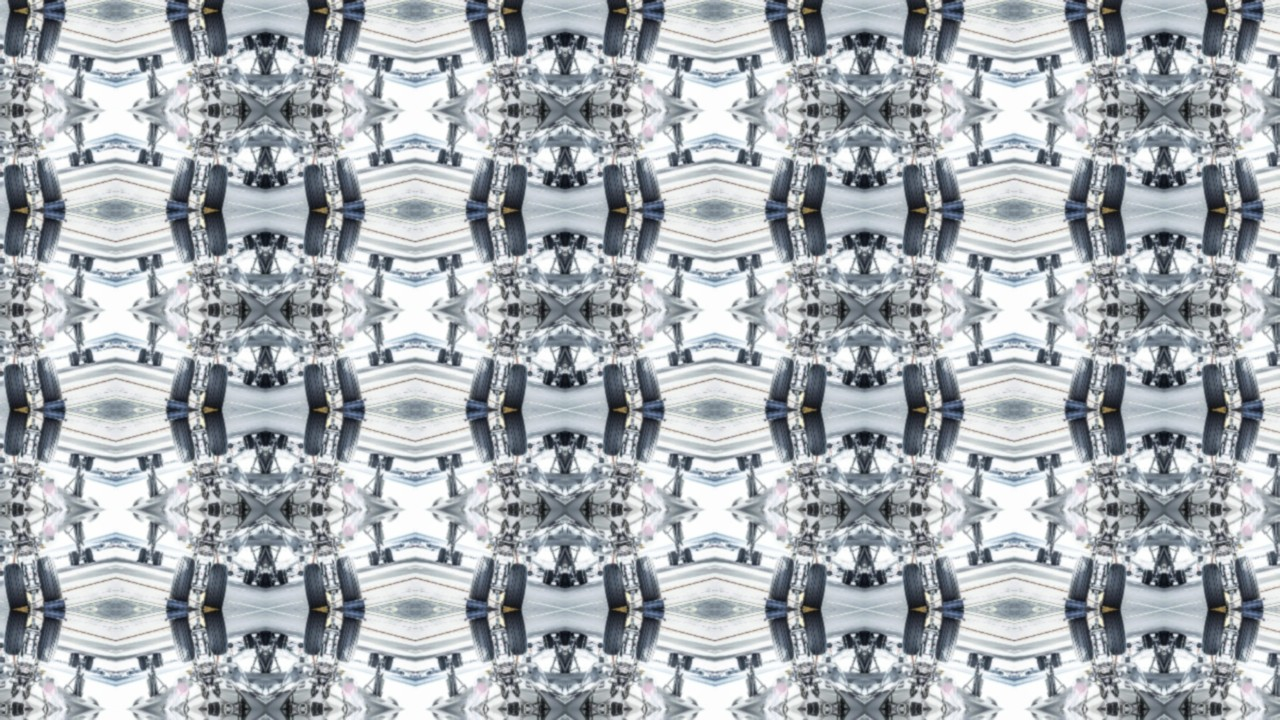chock: (43, 10, 65, 22), (165, 10, 187, 22), (343, 10, 365, 22), (465, 10, 487, 22), (643, 10, 665, 22), (765, 10, 787, 22), (943, 10, 965, 22), (1065, 10, 1087, 22), (1243, 10, 1265, 22), (43, 198, 65, 210), (165, 198, 187, 210), (343, 198, 365, 210), (465, 198, 487, 210), (643, 198, 665, 210), (765, 198, 787, 210), (943, 198, 965, 210), (1065, 198, 1087, 210), (1243, 198, 1265, 210), (43, 210, 65, 222), (165, 210, 187, 222), (343, 210, 365, 222), (465, 210, 487, 222), (643, 210, 665, 222), (765, 210, 787, 222), (943, 210, 965, 222), (1065, 210, 1087, 222), (1243, 210, 1265, 222), (43, 398, 65, 410), (165, 398, 187, 410), (343, 398, 365, 410), (465, 398, 487, 410), (643, 398, 665, 410), (765, 398, 787, 410), (943, 398, 965, 410), (1065, 398, 1087, 410), (1243, 398, 1265, 410), (43, 410, 65, 422), (165, 410, 187, 422), (343, 410, 365, 422), (465, 410, 487, 422), (643, 410, 665, 422), (765, 410, 787, 422), (943, 410, 965, 422), (1065, 410, 1087, 422), (1243, 410, 1265, 422), (43, 598, 65, 610), (165, 598, 187, 610), (343, 598, 365, 610), (465, 598, 487, 610), (643, 598, 665, 610), (765, 598, 787, 610), (943, 598, 965, 610), (1065, 598, 1087, 610), (1243, 598, 1265, 610), (43, 610, 65, 622), (165, 610, 187, 622), (343, 610, 365, 622), (465, 610, 487, 622), (643, 610, 665, 622), (765, 610, 787, 622), (943, 610, 965, 622), (1065, 610, 1087, 622), (1243, 610, 1265, 622), (43, 0, 65, 10), (165, 0, 187, 10), (343, 0, 365, 10), (465, 0, 487, 10), (643, 0, 665, 10), (765, 0, 787, 10), (943, 0, 965, 10), (1065, 0, 1087, 10), (1243, 0, 1265, 10), (87, 56, 95, 60), (135, 56, 143, 60), (387, 56, 395, 60), (435, 56, 443, 60), (687, 56, 695, 60), (735, 56, 743, 60), (987, 56, 995, 60), (1035, 56, 1043, 60), (87, 160, 95, 164), (135, 160, 143, 164), (387, 160, 395, 164), (435, 160, 443, 164), (687, 160, 695, 164), (735, 160, 743, 164), (987, 160, 995, 164), (1035, 160, 1043, 164), (87, 256, 95, 260), (135, 256, 143, 260), (387, 256, 395, 260), (435, 256, 443, 260), (687, 256, 695, 260), (735, 256, 743, 260), (987, 256, 995, 260), (1035, 256, 1043, 260), (87, 360, 95, 364), (135, 360, 143, 364), (387, 360, 395, 364), (435, 360, 443, 364), (687, 360, 695, 364), (735, 360, 743, 364), (987, 360, 995, 364), (1035, 360, 1043, 364), (87, 456, 95, 460), (135, 456, 143, 460), (387, 456, 395, 460), (435, 456, 443, 460), (687, 456, 695, 460), (735, 456, 743, 460), (987, 456, 995, 460), (1035, 456, 1043, 460), (87, 560, 95, 564), (135, 560, 143, 564), (387, 560, 395, 564), (435, 560, 443, 564), (687, 560, 695, 564), (735, 560, 743, 564), (987, 560, 995, 564), (1035, 560, 1043, 564), (87, 656, 95, 660), (135, 656, 143, 660), (387, 656, 395, 660), (435, 656, 443, 660), (687, 656, 695, 660), (735, 656, 743, 660), (987, 656, 995, 660), (1035, 656, 1043, 660), (259, 31, 265, 35), (265, 31, 271, 35), (559, 31, 565, 35), (565, 31, 571, 35), (859, 31, 865, 35), (865, 31, 871, 35), (1159, 31, 1165, 35), (1165, 31, 1171, 35), (259, 185, 265, 189), (265, 185, 271, 189), (559, 185, 565, 189), (565, 185, 571, 189), (859, 185, 865, 189), (865, 185, 871, 189), (1159, 185, 1165, 189), (1165, 185, 1171, 189), (259, 231, 265, 235), (265, 231, 271, 235), (559, 231, 565, 235), (565, 231, 571, 235), (859, 231, 865, 235), (865, 231, 871, 235), (1159, 231, 1165, 235), (1165, 231, 1171, 235), (259, 385, 265, 389), (265, 385, 271, 389), (559, 385, 565, 389), (565, 385, 571, 389), (859, 385, 865, 389), (865, 385, 871, 389), (1159, 385, 1165, 389), (1165, 385, 1171, 389), (259, 431, 265, 435), (265, 431, 271, 435), (559, 431, 565, 435), (565, 431, 571, 435), (859, 431, 865, 435), (865, 431, 871, 435), (1159, 431, 1165, 435), (1165, 431, 1171, 435), (259, 585, 265, 589), (265, 585, 271, 589), (559, 585, 565, 589), (565, 585, 571, 589), (859, 585, 865, 589), (865, 585, 871, 589), (1159, 585, 1165, 589), (1165, 585, 1171, 589), (259, 631, 265, 635), (265, 631, 271, 635), (559, 631, 565, 635), (565, 631, 571, 635), (859, 631, 865, 635), (865, 631, 871, 635), (1159, 631, 1165, 635), (1165, 631, 1171, 635)
wheel: (33, 10, 64, 65), (166, 10, 197, 65), (333, 10, 364, 65), (466, 10, 497, 65), (633, 10, 664, 65), (766, 10, 797, 65), (933, 10, 964, 65), (1066, 10, 1097, 65), (1233, 10, 1264, 65), (33, 155, 64, 210), (166, 155, 197, 210), (333, 155, 364, 210), (466, 155, 497, 210), (633, 155, 664, 210), (766, 155, 797, 210), (933, 155, 964, 210), (1066, 155, 1097, 210), (1233, 155, 1264, 210), (33, 210, 64, 265), (166, 210, 197, 265), (333, 210, 364, 265), (466, 210, 497, 265), (633, 210, 664, 265), (766, 210, 797, 265), (933, 210, 964, 265), (1066, 210, 1097, 265), (1233, 210, 1264, 265), (33, 355, 64, 410), (166, 355, 197, 410), (333, 355, 364, 410), (466, 355, 497, 410), (633, 355, 664, 410), (766, 355, 797, 410), (933, 355, 964, 410), (1066, 355, 1097, 410), (1233, 355, 1264, 410), (33, 410, 64, 465), (166, 410, 197, 465), (333, 410, 364, 465), (466, 410, 497, 465), (633, 410, 664, 465), (766, 410, 797, 465), (933, 410, 964, 465), (1066, 410, 1097, 465), (1233, 410, 1264, 465), (33, 555, 64, 610), (166, 555, 197, 610), (333, 555, 364, 610), (466, 555, 497, 610), (633, 555, 664, 610), (766, 555, 797, 610), (933, 555, 964, 610), (1066, 555, 1097, 610), (1233, 555, 1264, 610), (33, 610, 64, 665), (166, 610, 197, 665), (333, 610, 364, 665), (466, 610, 497, 665), (633, 610, 664, 665), (766, 610, 797, 665), (933, 610, 964, 665), (1066, 610, 1097, 665), (1233, 610, 1264, 665), (201, 10, 231, 58), (299, 10, 329, 58), (501, 10, 531, 58), (599, 10, 629, 58), (801, 10, 831, 58), (899, 10, 929, 58), (1101, 10, 1131, 58), (1199, 10, 1229, 58), (201, 162, 231, 210), (299, 162, 329, 210), (501, 162, 531, 210), (599, 162, 629, 210), (801, 162, 831, 210), (899, 162, 929, 210), (1101, 162, 1131, 210), (1199, 162, 1229, 210), (201, 210, 231, 258), (299, 210, 329, 258), (501, 210, 531, 258), (599, 210, 629, 258), (801, 210, 831, 258), (899, 210, 929, 258), (1101, 210, 1131, 258), (1199, 210, 1229, 258), (201, 362, 231, 410), (299, 362, 329, 410), (501, 362, 531, 410), (599, 362, 629, 410), (801, 362, 831, 410), (899, 362, 929, 410), (1101, 362, 1131, 410), (1199, 362, 1229, 410), (201, 410, 231, 458), (299, 410, 329, 458), (501, 410, 531, 458), (599, 410, 629, 458), (801, 410, 831, 458), (899, 410, 929, 458), (1101, 410, 1131, 458), (1199, 410, 1229, 458), (201, 562, 231, 610), (299, 562, 329, 610), (501, 562, 531, 610), (599, 562, 629, 610), (801, 562, 831, 610), (899, 562, 929, 610), (1101, 562, 1131, 610), (1199, 562, 1229, 610), (201, 610, 231, 658), (299, 610, 329, 658), (501, 610, 531, 658), (599, 610, 629, 658), (801, 610, 831, 658), (899, 610, 929, 658), (1101, 610, 1131, 658), (1199, 610, 1229, 658), (0, 10, 29, 58), (0, 162, 29, 210), (0, 210, 29, 258), (0, 362, 29, 410), (0, 410, 29, 458), (0, 562, 29, 610), (0, 610, 29, 658), (33, 0, 64, 10), (166, 0, 197, 10), (333, 0, 364, 10), (466, 0, 497, 10), (633, 0, 664, 10), (766, 0, 797, 10), (933, 0, 964, 10), (1066, 0, 1097, 10), (1233, 0, 1264, 10), (201, 0, 231, 10), (299, 0, 329, 10), (501, 0, 531, 10), (599, 0, 629, 10), (801, 0, 831, 10), (899, 0, 929, 10), (1101, 0, 1131, 10), (1199, 0, 1229, 10), (0, 0, 29, 10), (242, 35, 255, 51), (275, 35, 288, 51), (542, 35, 555, 51), (575, 35, 588, 51), (842, 35, 855, 51), (875, 35, 888, 51), (1142, 35, 1155, 51), (1175, 35, 1188, 51), (242, 169, 255, 185), (275, 169, 288, 185), (542, 169, 555, 185), (575, 169, 588, 185), (842, 169, 855, 185), (875, 169, 888, 185), (1142, 169, 1155, 185), (1175, 169, 1188, 185), (242, 235, 255, 251), (275, 235, 288, 251), (542, 235, 555, 251), (575, 235, 588, 251), (842, 235, 855, 251), (875, 235, 888, 251), (1142, 235, 1155, 251), (1175, 235, 1188, 251), (242, 369, 255, 385), (275, 369, 288, 385), (542, 369, 555, 385), (575, 369, 588, 385), (842, 369, 855, 385), (875, 369, 888, 385), (1142, 369, 1155, 385), (1175, 369, 1188, 385), (242, 435, 255, 451), (275, 435, 288, 451), (542, 435, 555, 451), (575, 435, 588, 451), (842, 435, 855, 451), (875, 435, 888, 451), (1142, 435, 1155, 451), (1175, 435, 1188, 451), (242, 569, 255, 585), (275, 569, 288, 585), (542, 569, 555, 585), (575, 569, 588, 585), (842, 569, 855, 585), (875, 569, 888, 585), (1142, 569, 1155, 585), (1175, 569, 1188, 585), (242, 635, 255, 651), (275, 635, 288, 651), (542, 635, 555, 651), (575, 635, 588, 651), (842, 635, 855, 651), (875, 635, 888, 651), (1142, 635, 1155, 651), (1175, 635, 1188, 651), (81, 56, 93, 73), (137, 56, 149, 73), (381, 56, 393, 73), (437, 56, 449, 73), (681, 56, 693, 73), (737, 56, 749, 73), (981, 56, 993, 73), (1037, 56, 1049, 73), (81, 147, 93, 164), (137, 147, 149, 164), (381, 147, 393, 164), (437, 147, 449, 164), (681, 147, 693, 164), (737, 147, 749, 164), (981, 147, 993, 164), (1037, 147, 1049, 164), (81, 256, 93, 273), (137, 256, 149, 273), (381, 256, 393, 273), (437, 256, 449, 273), (681, 256, 693, 273), (737, 256, 749, 273), (981, 256, 993, 273), (1037, 256, 1049, 273), (81, 347, 93, 364), (137, 347, 149, 364), (381, 347, 393, 364), (437, 347, 449, 364), (681, 347, 693, 364), (737, 347, 749, 364), (981, 347, 993, 364), (1037, 347, 1049, 364), (81, 456, 93, 473), (137, 456, 149, 473), (381, 456, 393, 473), (437, 456, 449, 473), (681, 456, 693, 473), (737, 456, 749, 473), (981, 456, 993, 473), (1037, 456, 1049, 473), (81, 547, 93, 564), (137, 547, 149, 564), (381, 547, 393, 564), (437, 547, 449, 564), (681, 547, 693, 564), (737, 547, 749, 564), (981, 547, 993, 564), (1037, 547, 1049, 564), (81, 656, 93, 673), (137, 656, 149, 673), (381, 656, 393, 673), (437, 656, 449, 673), (681, 656, 693, 673), (737, 656, 749, 673), (981, 656, 993, 673), (1037, 656, 1049, 673), (66, 53, 78, 69), (152, 53, 164, 69), (366, 53, 378, 69), (452, 53, 464, 69), (666, 53, 678, 69), (752, 53, 764, 69), (966, 53, 978, 69), (1052, 53, 1064, 69), (1266, 53, 1278, 69), (66, 151, 78, 167), (152, 151, 164, 167), (366, 151, 378, 167), (452, 151, 464, 167), (666, 151, 678, 167), (752, 151, 764, 167), (966, 151, 978, 167), (1052, 151, 1064, 167), (1266, 151, 1278, 167), (66, 253, 78, 269), (152, 253, 164, 269), (366, 253, 378, 269), (452, 253, 464, 269), (666, 253, 678, 269), (752, 253, 764, 269), (966, 253, 978, 269), (1052, 253, 1064, 269), (1266, 253, 1278, 269), (66, 351, 78, 367), (152, 351, 164, 367), (366, 351, 378, 367), (452, 351, 464, 367), (666, 351, 678, 367), (752, 351, 764, 367), (966, 351, 978, 367), (1052, 351, 1064, 367), (1266, 351, 1278, 367), (66, 453, 78, 469), (152, 453, 164, 469), (366, 453, 378, 469), (452, 453, 464, 469), (666, 453, 678, 469), (752, 453, 764, 469), (966, 453, 978, 469), (1052, 453, 1064, 469), (1266, 453, 1278, 469), (66, 551, 78, 567), (152, 551, 164, 567), (366, 551, 378, 567), (452, 551, 464, 567), (666, 551, 678, 567), (752, 551, 764, 567), (966, 551, 978, 567), (1052, 551, 1064, 567), (1266, 551, 1278, 567), (66, 653, 78, 669), (152, 653, 164, 669), (366, 653, 378, 669), (452, 653, 464, 669), (666, 653, 678, 669), (752, 653, 764, 669), (966, 653, 978, 669), (1052, 653, 1064, 669), (1266, 653, 1278, 669), (255, 32, 265, 49), (265, 32, 275, 49), (555, 32, 565, 49), (565, 32, 575, 49), (855, 32, 865, 49), (865, 32, 875, 49), (1155, 32, 1165, 49), (1165, 32, 1175, 49), (255, 171, 265, 188), (265, 171, 275, 188), (555, 171, 565, 188), (565, 171, 575, 188), (855, 171, 865, 188), (865, 171, 875, 188), (1155, 171, 1165, 188), (1165, 171, 1175, 188), (255, 232, 265, 249), (265, 232, 275, 249), (555, 232, 565, 249), (565, 232, 575, 249), (855, 232, 865, 249), (865, 232, 875, 249), (1155, 232, 1165, 249), (1165, 232, 1175, 249), (255, 371, 265, 388), (265, 371, 275, 388), (555, 371, 565, 388), (565, 371, 575, 388), (855, 371, 865, 388), (865, 371, 875, 388), (1155, 371, 1165, 388), (1165, 371, 1175, 388), (255, 432, 265, 449), (265, 432, 275, 449), (555, 432, 565, 449), (565, 432, 575, 449), (855, 432, 865, 449), (865, 432, 875, 449), (1155, 432, 1165, 449), (1165, 432, 1175, 449), (255, 571, 265, 588), (265, 571, 275, 588), (555, 571, 565, 588), (565, 571, 575, 588), (855, 571, 865, 588), (865, 571, 875, 588), (1155, 571, 1165, 588), (1165, 571, 1175, 588), (255, 632, 265, 649), (265, 632, 275, 649), (555, 632, 565, 649), (565, 632, 575, 649), (855, 632, 865, 649), (865, 632, 875, 649), (1155, 632, 1165, 649), (1165, 632, 1175, 649), (79, 56, 87, 70), (143, 56, 151, 70), (379, 56, 387, 70), (443, 56, 451, 70), (679, 56, 687, 70), (743, 56, 751, 70), (979, 56, 987, 70), (1043, 56, 1051, 70), (79, 150, 87, 164), (143, 150, 151, 164), (379, 150, 387, 164), (443, 150, 451, 164), (679, 150, 687, 164), (743, 150, 751, 164), (979, 150, 987, 164), (1043, 150, 1051, 164), (79, 256, 87, 270), (143, 256, 151, 270), (379, 256, 387, 270), (443, 256, 451, 270), (679, 256, 687, 270), (743, 256, 751, 270), (979, 256, 987, 270), (1043, 256, 1051, 270), (79, 350, 87, 364), (143, 350, 151, 364), (379, 350, 387, 364), (443, 350, 451, 364), (679, 350, 687, 364), (743, 350, 751, 364), (979, 350, 987, 364), (1043, 350, 1051, 364), (79, 456, 87, 470), (143, 456, 151, 470), (379, 456, 387, 470), (443, 456, 451, 470), (679, 456, 687, 470), (743, 456, 751, 470), (979, 456, 987, 470), (1043, 456, 1051, 470), (79, 550, 87, 564), (143, 550, 151, 564), (379, 550, 387, 564), (443, 550, 451, 564), (679, 550, 687, 564), (743, 550, 751, 564), (979, 550, 987, 564), (1043, 550, 1051, 564), (79, 656, 87, 670), (143, 656, 151, 670), (379, 656, 387, 670), (443, 656, 451, 670), (679, 656, 687, 670), (743, 656, 751, 670), (979, 656, 987, 670), (1043, 656, 1051, 670), (66, 54, 73, 68), (157, 54, 164, 68), (255, 34, 262, 48), (366, 54, 373, 68), (268, 34, 275, 48), (457, 54, 464, 68), (555, 34, 562, 48), (666, 54, 673, 68), (568, 34, 575, 48), (757, 54, 764, 68), (855, 34, 862, 48), (966, 54, 973, 68), (868, 34, 875, 48), (1057, 54, 1064, 68), (1155, 34, 1162, 48), (1266, 54, 1273, 68), (1168, 34, 1175, 48), (66, 152, 73, 166), (157, 152, 164, 166), (255, 172, 262, 186), (366, 152, 373, 166), (268, 172, 275, 186), (457, 152, 464, 166), (555, 172, 562, 186), (666, 152, 673, 166), (568, 172, 575, 186), (757, 152, 764, 166), (855, 172, 862, 186), (966, 152, 973, 166), (868, 172, 875, 186), (1057, 152, 1064, 166), (1155, 172, 1162, 186), (1266, 152, 1273, 166), (1168, 172, 1175, 186), (66, 254, 73, 268), (157, 254, 164, 268), (255, 234, 262, 248), (366, 254, 373, 268), (268, 234, 275, 248), (457, 254, 464, 268), (555, 234, 562, 248), (666, 254, 673, 268), (568, 234, 575, 248), (757, 254, 764, 268), (855, 234, 862, 248), (966, 254, 973, 268), (868, 234, 875, 248), (1057, 254, 1064, 268), (1155, 234, 1162, 248), (1266, 254, 1273, 268), (1168, 234, 1175, 248), (66, 352, 73, 366), (157, 352, 164, 366), (255, 372, 262, 386), (366, 352, 373, 366), (268, 372, 275, 386), (457, 352, 464, 366), (555, 372, 562, 386), (666, 352, 673, 366), (568, 372, 575, 386), (757, 352, 764, 366), (855, 372, 862, 386), (966, 352, 973, 366), (868, 372, 875, 386), (1057, 352, 1064, 366), (1155, 372, 1162, 386), (1266, 352, 1273, 366), (1168, 372, 1175, 386), (66, 454, 73, 468), (157, 454, 164, 468), (255, 434, 262, 448), (366, 454, 373, 468), (268, 434, 275, 448), (457, 454, 464, 468), (555, 434, 562, 448), (666, 454, 673, 468), (568, 434, 575, 448), (757, 454, 764, 468), (855, 434, 862, 448), (966, 454, 973, 468), (868, 434, 875, 448), (1057, 454, 1064, 468), (1155, 434, 1162, 448), (1266, 454, 1273, 468), (1168, 434, 1175, 448), (66, 552, 73, 566), (157, 552, 164, 566), (255, 572, 262, 586), (366, 552, 373, 566), (268, 572, 275, 586), (457, 552, 464, 566), (555, 572, 562, 586), (666, 552, 673, 566), (568, 572, 575, 586), (757, 552, 764, 566), (855, 572, 862, 586), (966, 552, 973, 566), (868, 572, 875, 586), (1057, 552, 1064, 566), (1155, 572, 1162, 586), (1266, 552, 1273, 566), (1168, 572, 1175, 586), (66, 654, 73, 668), (157, 654, 164, 668), (255, 634, 262, 648), (366, 654, 373, 668), (268, 634, 275, 648), (457, 654, 464, 668), (555, 634, 562, 648), (666, 654, 673, 668), (568, 634, 575, 648), (757, 654, 764, 668), (855, 634, 862, 648), (966, 654, 973, 668), (868, 634, 875, 648), (1057, 654, 1064, 668), (1155, 634, 1162, 648), (1266, 654, 1273, 668), (1168, 634, 1175, 648), (19, 43, 25, 58), (30, 46, 36, 61), (205, 43, 211, 58), (194, 46, 200, 61), (319, 43, 325, 58), (330, 46, 336, 61), (505, 43, 511, 58), (494, 46, 500, 61), (619, 43, 625, 58), (630, 46, 636, 61), (805, 43, 811, 58), (794, 46, 800, 61), (919, 43, 925, 58), (930, 46, 936, 61), (1105, 43, 1111, 58), (1094, 46, 1100, 61), (1219, 43, 1225, 58), (1230, 46, 1236, 61), (19, 162, 25, 177), (30, 159, 36, 174), (205, 162, 211, 177), (194, 159, 200, 174), (319, 162, 325, 177), (330, 159, 336, 174), (505, 162, 511, 177), (494, 159, 500, 174), (619, 162, 625, 177), (630, 159, 636, 174), (805, 162, 811, 177), (794, 159, 800, 174), (919, 162, 925, 177), (930, 159, 936, 174), (1105, 162, 1111, 177), (1094, 159, 1100, 174), (1219, 162, 1225, 177), (1230, 159, 1236, 174), (19, 243, 25, 258), (30, 246, 36, 261), (205, 243, 211, 258), (194, 246, 200, 261), (319, 243, 325, 258), (330, 246, 336, 261), (505, 243, 511, 258), (494, 246, 500, 261), (619, 243, 625, 258), (630, 246, 636, 261), (805, 243, 811, 258), (794, 246, 800, 261), (919, 243, 925, 258), (930, 246, 936, 261), (1105, 243, 1111, 258), (1094, 246, 1100, 261), (1219, 243, 1225, 258), (1230, 246, 1236, 261), (19, 362, 25, 377), (30, 359, 36, 374), (205, 362, 211, 377), (194, 359, 200, 374), (319, 362, 325, 377), (330, 359, 336, 374), (505, 362, 511, 377), (494, 359, 500, 374), (619, 362, 625, 377), (630, 359, 636, 374), (805, 362, 811, 377), (794, 359, 800, 374), (919, 362, 925, 377), (930, 359, 936, 374), (1105, 362, 1111, 377), (1094, 359, 1100, 374), (1219, 362, 1225, 377), (1230, 359, 1236, 374), (19, 443, 25, 458), (30, 446, 36, 461), (205, 443, 211, 458), (194, 446, 200, 461), (319, 443, 325, 458), (330, 446, 336, 461), (505, 443, 511, 458), (494, 446, 500, 461), (619, 443, 625, 458), (630, 446, 636, 461), (805, 443, 811, 458), (794, 446, 800, 461), (919, 443, 925, 458), (930, 446, 936, 461), (1105, 443, 1111, 458), (1094, 446, 1100, 461), (1219, 443, 1225, 458), (1230, 446, 1236, 461), (19, 562, 25, 577), (30, 559, 36, 574), (205, 562, 211, 577), (194, 559, 200, 574), (319, 562, 325, 577), (330, 559, 336, 574), (505, 562, 511, 577), (494, 559, 500, 574), (619, 562, 625, 577), (630, 559, 636, 574), (805, 562, 811, 577), (794, 559, 800, 574), (919, 562, 925, 577), (930, 559, 936, 574), (1105, 562, 1111, 577), (1094, 559, 1100, 574), (1219, 562, 1225, 577), (1230, 559, 1236, 574), (19, 643, 25, 658), (30, 646, 36, 661), (205, 643, 211, 658), (194, 646, 200, 661), (319, 643, 325, 658), (330, 646, 336, 661), (505, 643, 511, 658), (494, 646, 500, 661), (619, 643, 625, 658), (630, 646, 636, 661), (805, 643, 811, 658), (794, 646, 800, 661), (919, 643, 925, 658), (930, 646, 936, 661), (1105, 643, 1111, 658), (1094, 646, 1100, 661), (1219, 643, 1225, 658), (1230, 646, 1236, 661), (242, 37, 248, 51), (282, 37, 288, 51), (542, 37, 548, 51), (582, 37, 588, 51), (842, 37, 848, 51), (882, 37, 888, 51), (1142, 37, 1148, 51), (1182, 37, 1188, 51), (242, 169, 248, 183), (282, 169, 288, 183), (542, 169, 548, 183), (582, 169, 588, 183), (842, 169, 848, 183), (882, 169, 888, 183), (1142, 169, 1148, 183), (1182, 169, 1188, 183), (242, 237, 248, 251), (282, 237, 288, 251), (542, 237, 548, 251), (582, 237, 588, 251), (842, 237, 848, 251), (882, 237, 888, 251), (1142, 237, 1148, 251), (1182, 237, 1188, 251), (242, 369, 248, 383), (282, 369, 288, 383), (542, 369, 548, 383), (582, 369, 588, 383), (842, 369, 848, 383), (882, 369, 888, 383), (1142, 369, 1148, 383), (1182, 369, 1188, 383), (242, 437, 248, 451), (282, 437, 288, 451), (542, 437, 548, 451), (582, 437, 588, 451), (842, 437, 848, 451), (882, 437, 888, 451), (1142, 437, 1148, 451), (1182, 437, 1188, 451), (242, 569, 248, 583), (282, 569, 288, 583), (542, 569, 548, 583), (582, 569, 588, 583), (842, 569, 848, 583), (882, 569, 888, 583), (1142, 569, 1148, 583), (1182, 569, 1188, 583), (242, 637, 248, 651), (282, 637, 288, 651), (542, 637, 548, 651), (582, 637, 588, 651), (842, 637, 848, 651), (882, 637, 888, 651), (1142, 637, 1148, 651), (1182, 637, 1188, 651), (227, 43, 233, 49), (297, 43, 303, 49), (527, 43, 533, 49), (597, 43, 603, 49), (827, 43, 833, 49), (897, 43, 903, 49), (1127, 43, 1133, 49), (1197, 43, 1203, 49), (227, 171, 233, 177), (297, 171, 303, 177), (527, 171, 533, 177), (597, 171, 603, 177), (827, 171, 833, 177), (897, 171, 903, 177), (1127, 171, 1133, 177), (1197, 171, 1203, 177), (227, 243, 233, 249), (297, 243, 303, 249), (527, 243, 533, 249), (597, 243, 603, 249), (827, 243, 833, 249), (897, 243, 903, 249), (1127, 243, 1133, 249), (1197, 243, 1203, 249), (227, 371, 233, 377), (297, 371, 303, 377), (527, 371, 533, 377), (597, 371, 603, 377), (827, 371, 833, 377), (897, 371, 903, 377), (1127, 371, 1133, 377), (1197, 371, 1203, 377), (227, 443, 233, 449), (297, 443, 303, 449), (527, 443, 533, 449), (597, 443, 603, 449), (827, 443, 833, 449), (897, 443, 903, 449), (1127, 443, 1133, 449), (1197, 443, 1203, 449), (227, 571, 233, 577), (297, 571, 303, 577), (527, 571, 533, 577), (597, 571, 603, 577), (827, 571, 833, 577), (897, 571, 903, 577), (1127, 571, 1133, 577), (1197, 571, 1203, 577), (227, 643, 233, 649), (297, 643, 303, 649), (527, 643, 533, 649), (597, 643, 603, 649), (827, 643, 833, 649), (897, 643, 903, 649), (1127, 643, 1133, 649), (1197, 643, 1203, 649), (0, 43, 3, 49), (0, 171, 3, 177), (0, 243, 3, 249), (0, 371, 3, 377), (0, 443, 3, 449), (0, 571, 3, 577), (0, 643, 3, 649), (1279, 56, 1280, 70), (1279, 150, 1280, 164), (1279, 256, 1280, 270), (1279, 350, 1280, 364), (1279, 456, 1280, 470), (1279, 550, 1280, 564), (1279, 656, 1280, 670)
